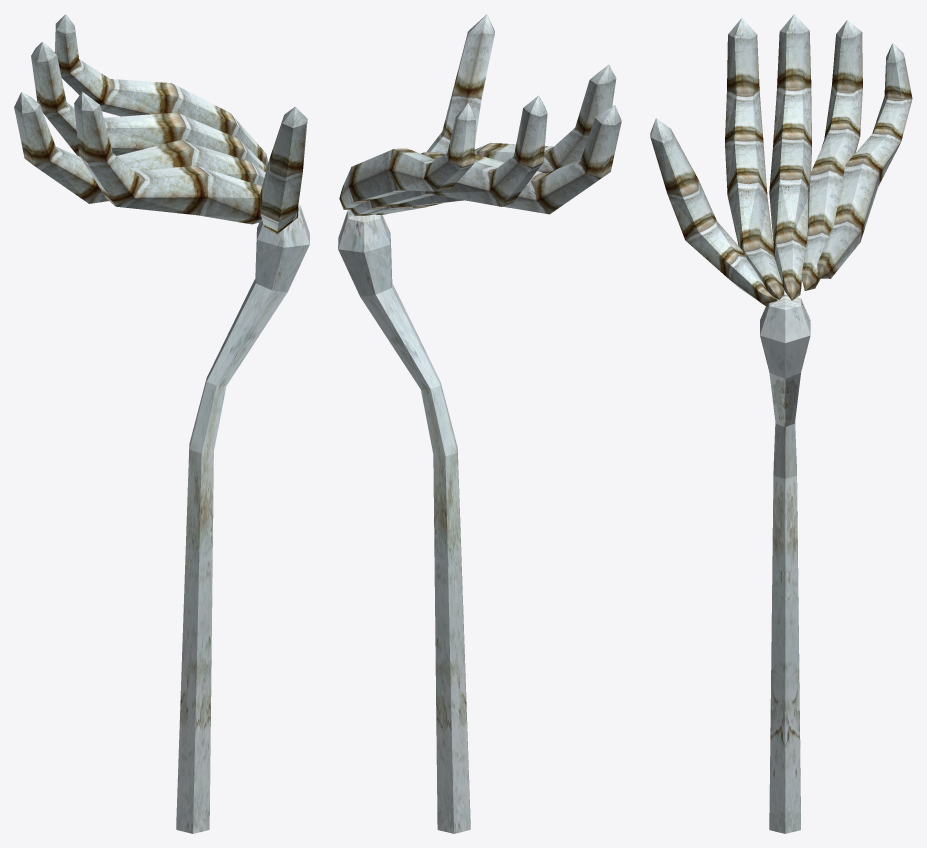
File: firehand.obj
3 renders of one model, left to right at view 1: azimuth 30°, elevation 25°; view 2: azimuth 150°, elevation 25°; view 3: azimuth 270°, elevation 25°, orthographic. The views are drawn at different scales.
Visible parts, largest first — view 1: obj_1, obj1; view 2: obj_1, obj1; view 3: obj_1, obj1.
Boxes of the visible parts, x1,y1,x2,y2 form: obj_1: [14, 14, 307, 234]; obj1: [176, 205, 309, 833]; obj_1: [339, 14, 621, 216]; obj1: [338, 209, 470, 833]; obj_1: [650, 14, 912, 306]; obj1: [760, 294, 810, 833].
Size of the model in its own units: 17.23 by 45.26 by 14.3.
